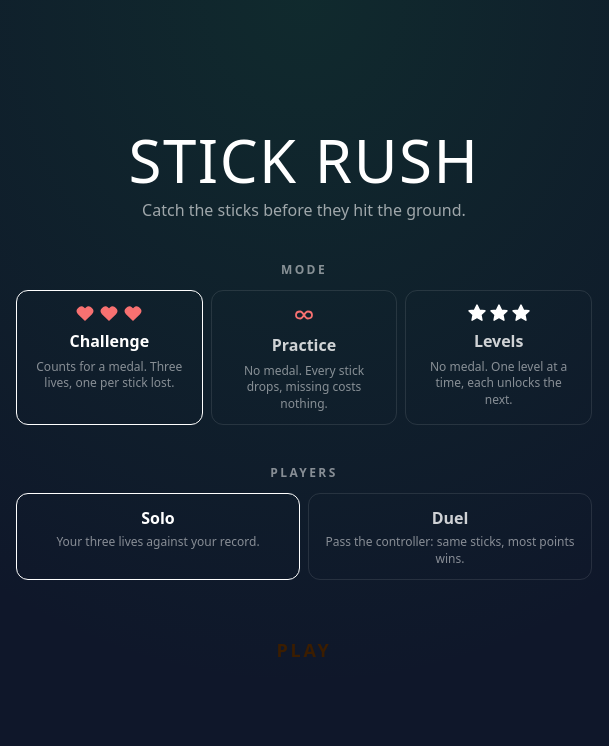
Test: the website menu opens on the challenge › each level says its stars with the right plural, in both languages
The width and height of the screenshot is (609, 746).
Click the button "Levels No medal. One level at a time, each unlocks the next.".
click(499, 358)  # box 405,290 -> 592,425
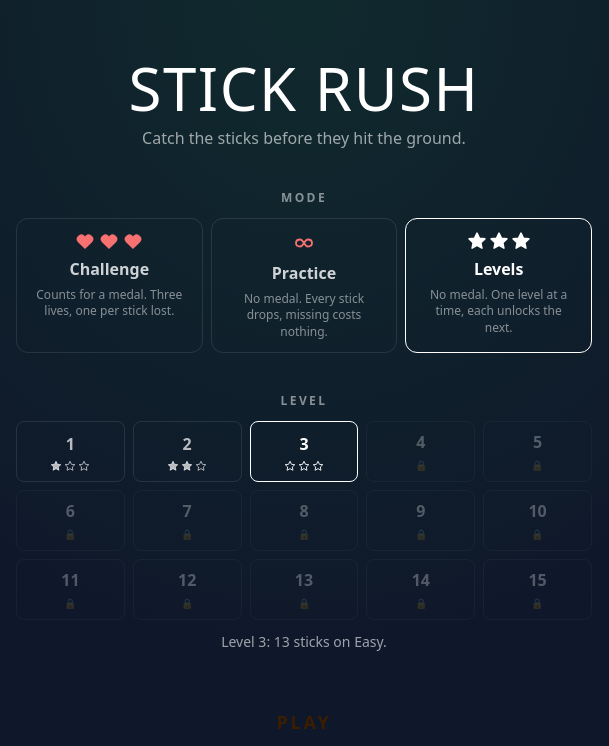
Result: the button named "Level 1, 1 star" is shown at 16,421 -> 125,482
Result: the button named "Level 2, 2 stars" is shown at 133,421 -> 242,482
